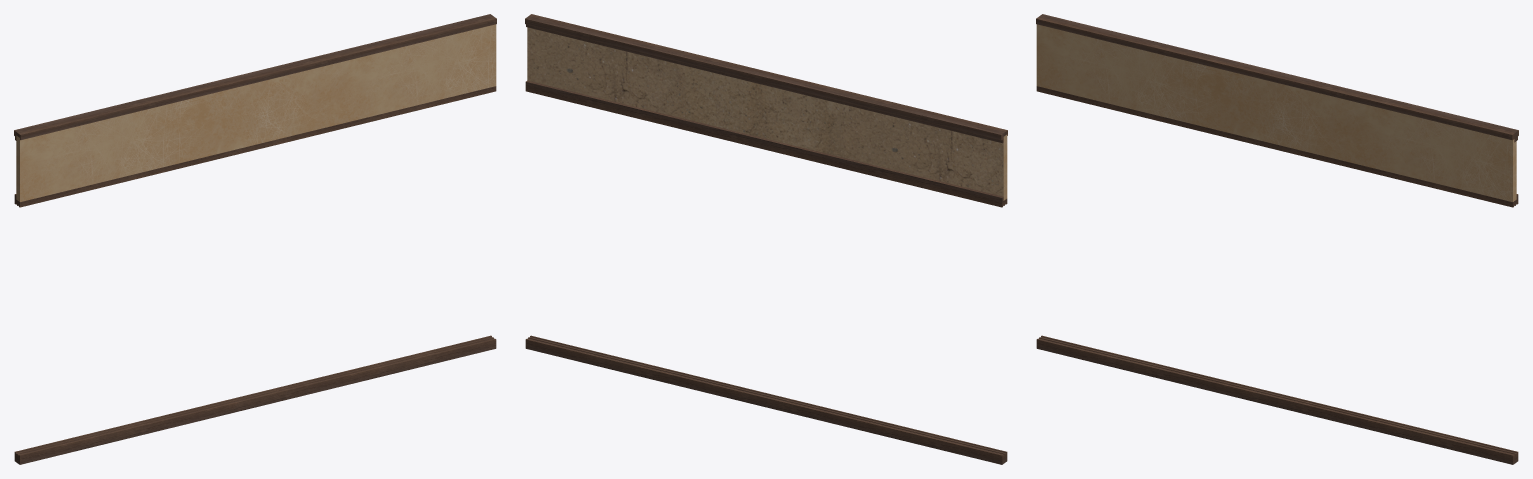
File: jov_outwall02_2t_to_e1.fbx
3 views of the same model, side by side, from view 1: azimuth 30°, elevation 25°; view 2: azimuth 150°, elevation 25°; view 3: azimuth 330°, elevation 25° (orthographic).
Parts seen in each view (by area): view 1: jov_outwall02_2t_to_e1; view 2: jov_outwall02_2t_to_e1; view 3: jov_outwall02_2t_to_e1.
Part boxes in pixels (x1,y1,x2,y2): jov_outwall02_2t_to_e1: (14, 14, 496, 464); jov_outwall02_2t_to_e1: (525, 14, 1007, 464); jov_outwall02_2t_to_e1: (1036, 14, 1518, 464).
Size of the model in its own units: 440 by 292 by 10.4.
